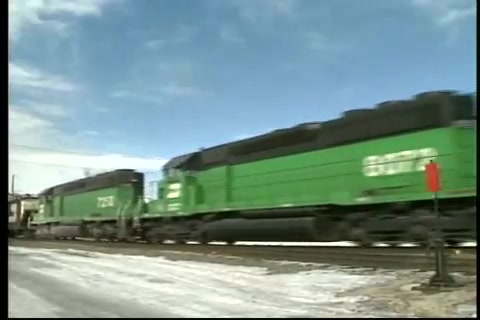train: (9, 91, 479, 249)
